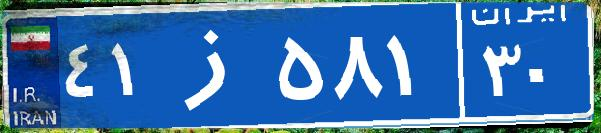0: (525, 38, 570, 115)
1: (385, 28, 445, 110), (110, 28, 158, 105)
3: (475, 38, 525, 113)
4: (57, 26, 110, 107)
5: (273, 28, 330, 110)
8: (330, 28, 385, 110)
ز: (158, 15, 273, 115)
